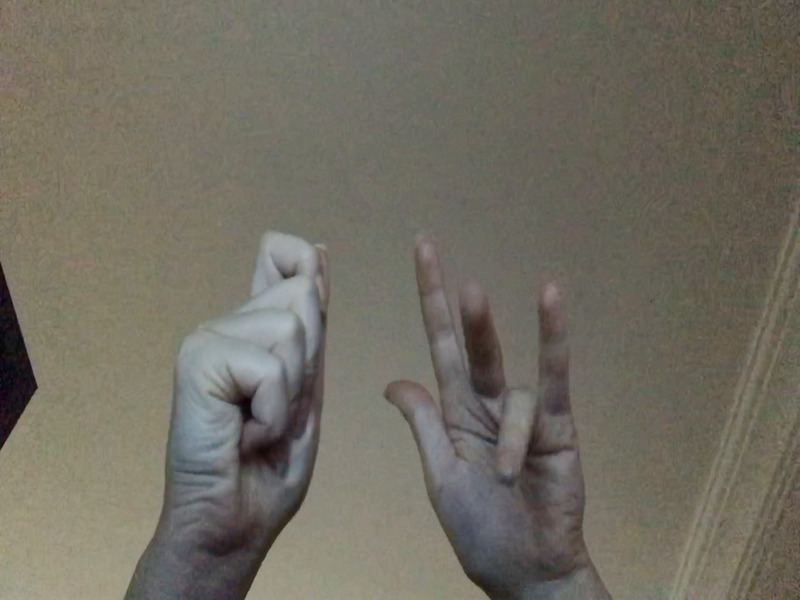hand: (382, 228, 609, 570), (160, 229, 337, 533)
